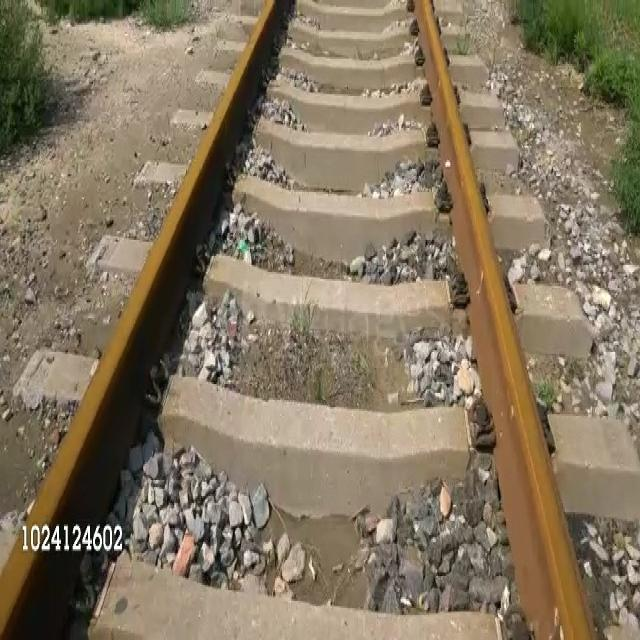Plant: (580, 51, 639, 226), (511, 0, 639, 65), (0, 0, 47, 152), (33, 0, 193, 28), (537, 382, 556, 405)
